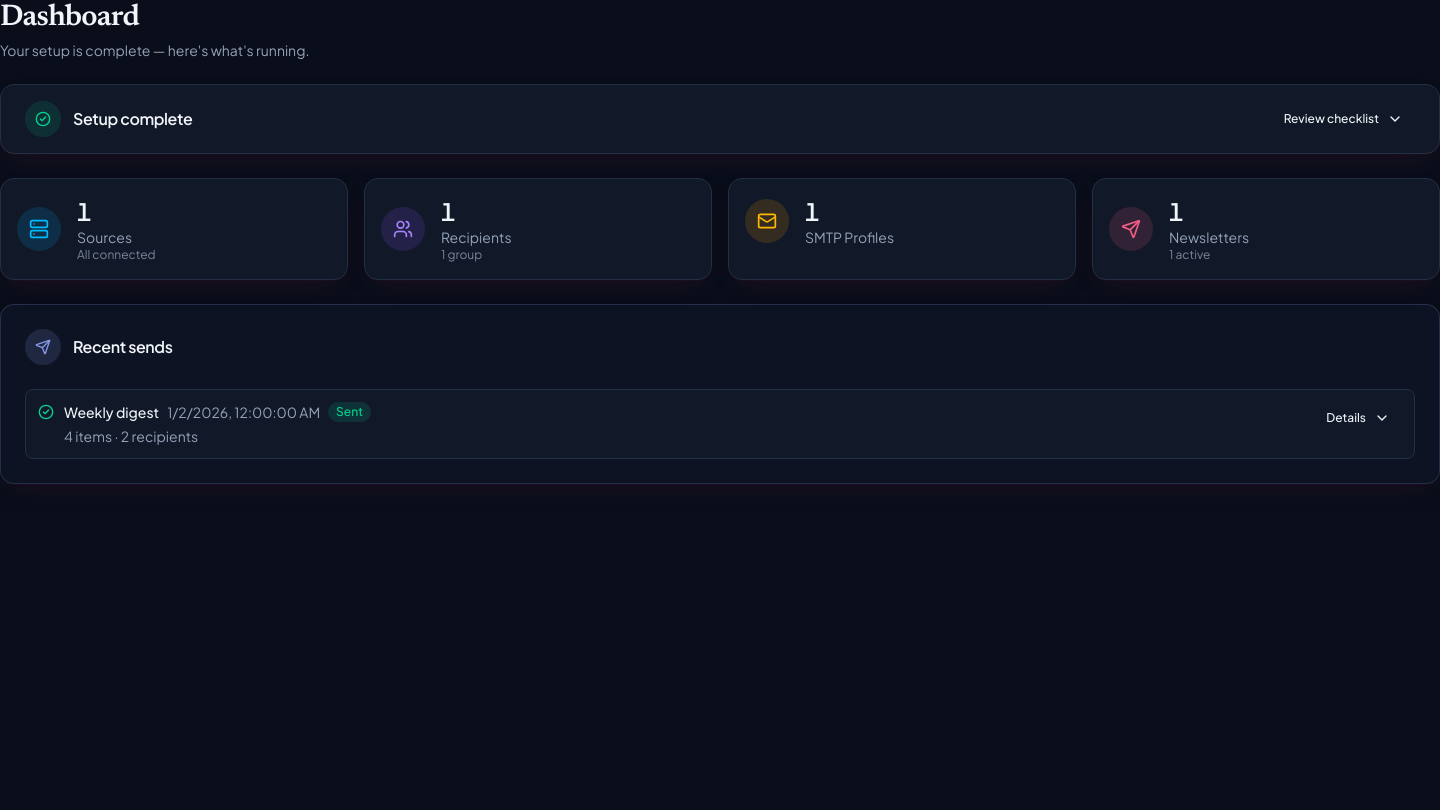
Scenario: DashboardPage › re-expands the completed checklist on request, and can collapse it again
The image size is (1440, 810).
Expected: the heading "Setup complete" is shown, [73,111,192,127]
Click the button "Review checklist" at (1343,119), box [1272,103,1415,135]
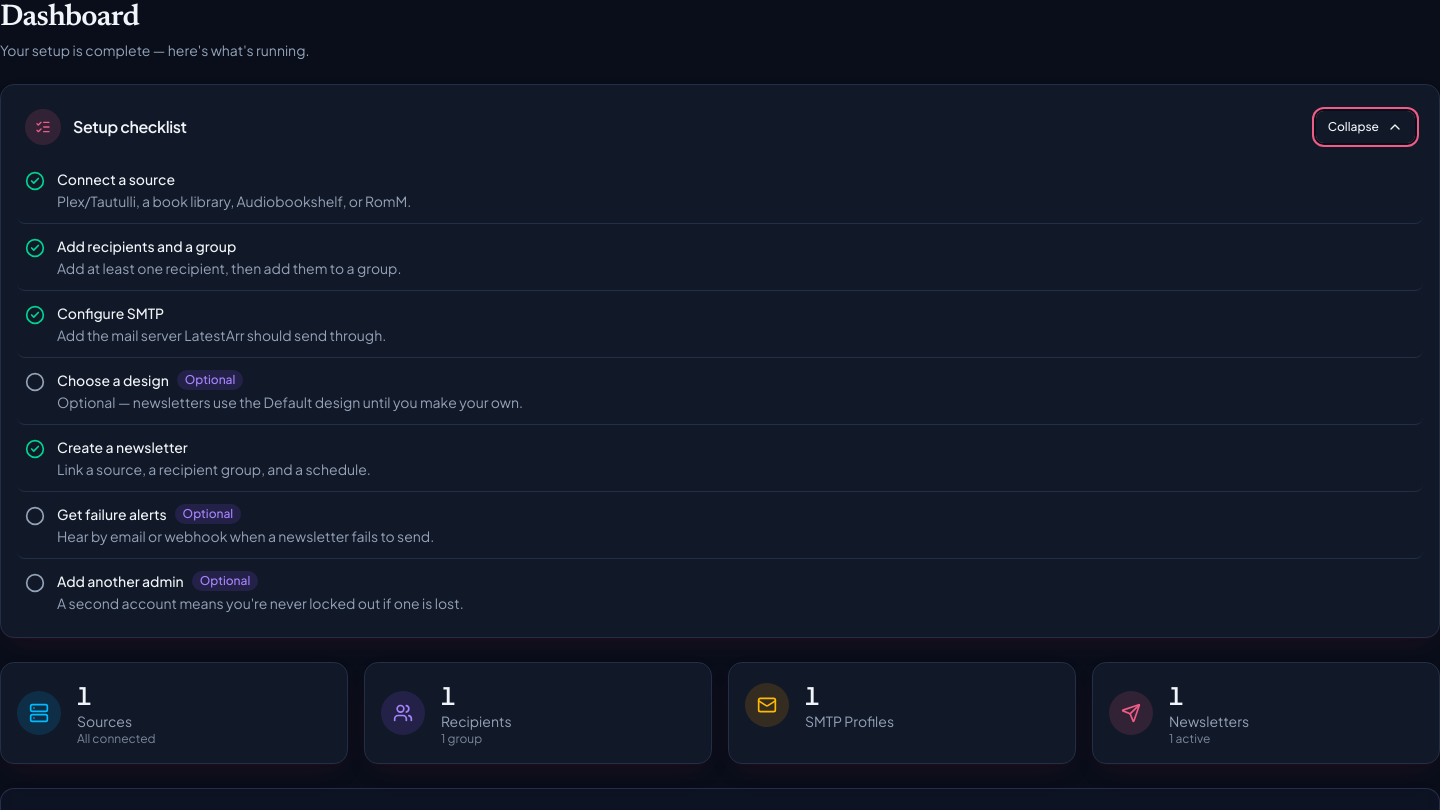
Expected: the heading "Setup checklist" is shown, [73,119,187,135]
Expected: the text "Connect a source" is shown, [56,170,175,198]
Expected: the heading "Setup complete" is gone
Click the button with aria-label "Collapse setup checklist" at (1365,127), box [1316,111,1415,143]
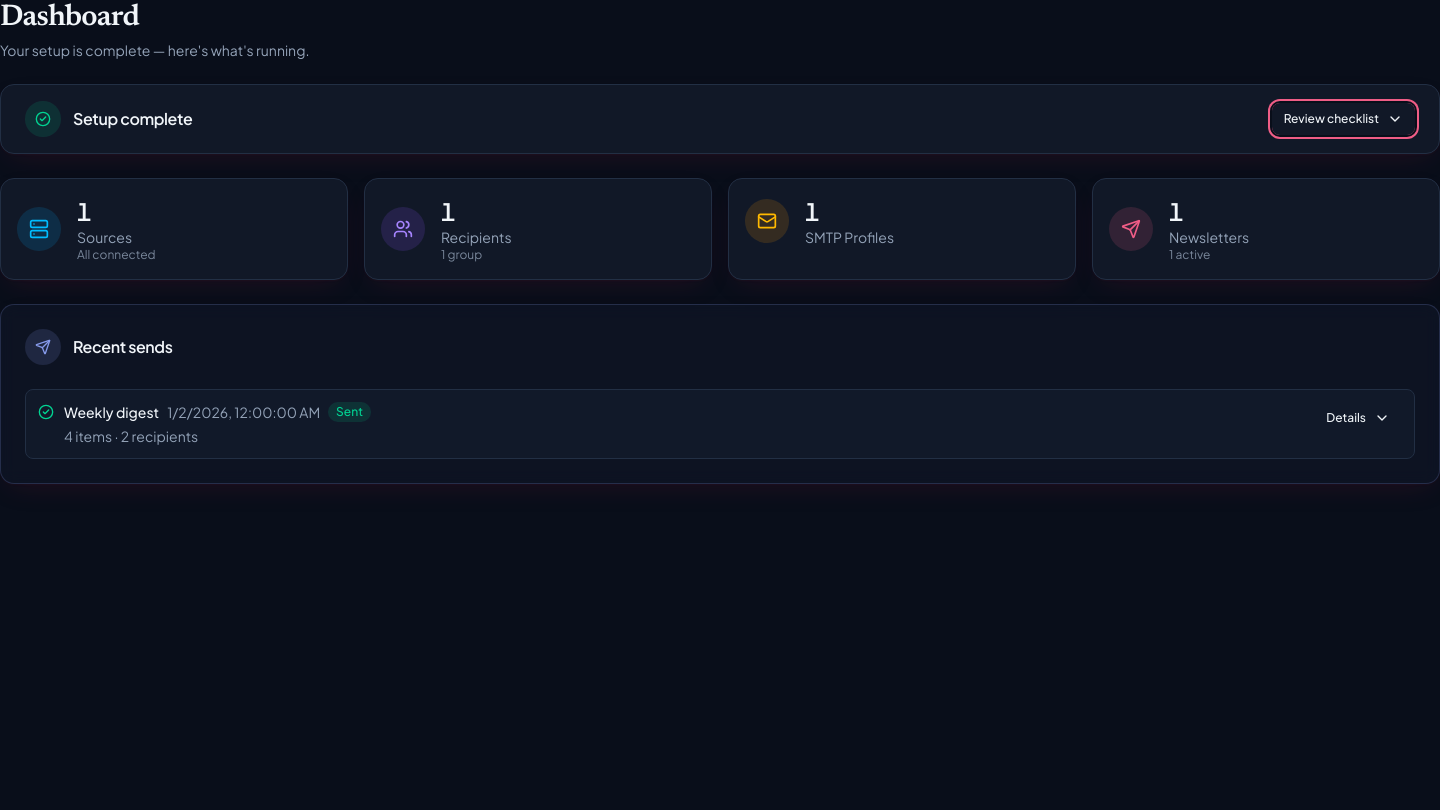
Expected: the heading "Setup complete" is shown, [73,111,192,127]
Expected: the heading "Setup checklist" is gone
